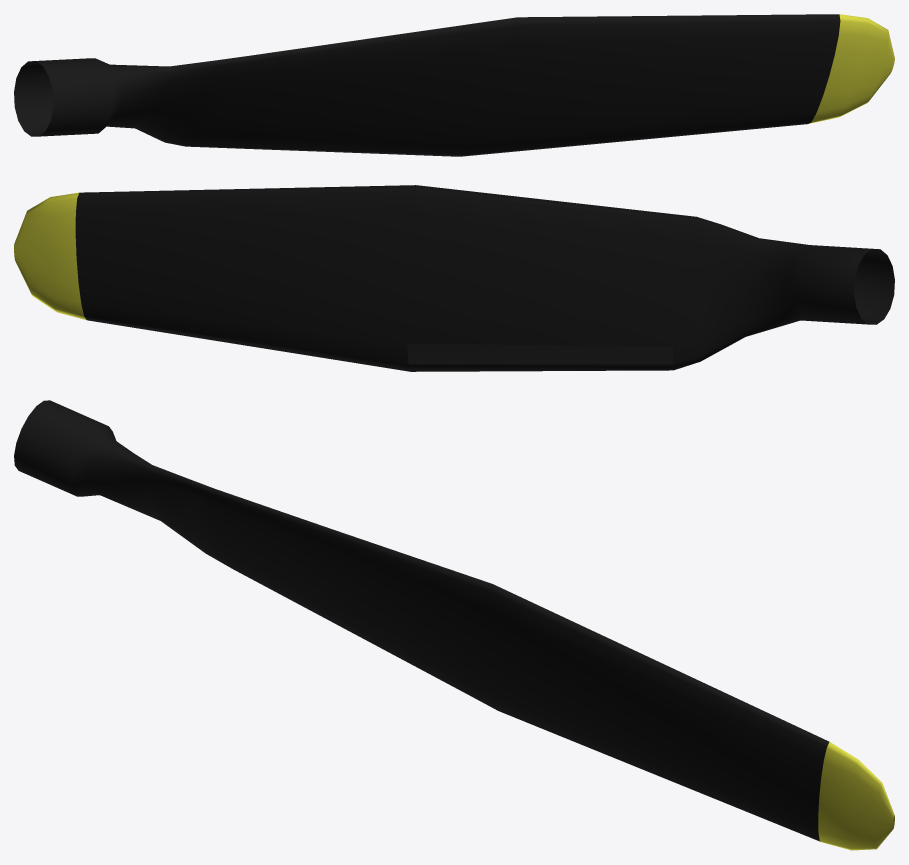
The model's file is helice.obj.
3 renders of one model, top to bottom at view 1: azimuth 30°, elevation 25°; view 2: azimuth 150°, elevation 25°; view 3: azimuth 330°, elevation 25°, orthographic.
Parts seen in each view (by area): view 1: polySurface28 pasted__polySurface196; view 2: polySurface28 pasted__polySurface196; view 3: polySurface28 pasted__polySurface196.
Boxes of the visible parts, <box> form: polySurface28 pasted__polySurface196: <box>14,14,894,156</box>; polySurface28 pasted__polySurface196: <box>14,185,894,371</box>; polySurface28 pasted__polySurface196: <box>14,400,894,850</box>.
Size of the model in its own units: 0.4645 by 0.1299 by 0.0406.
